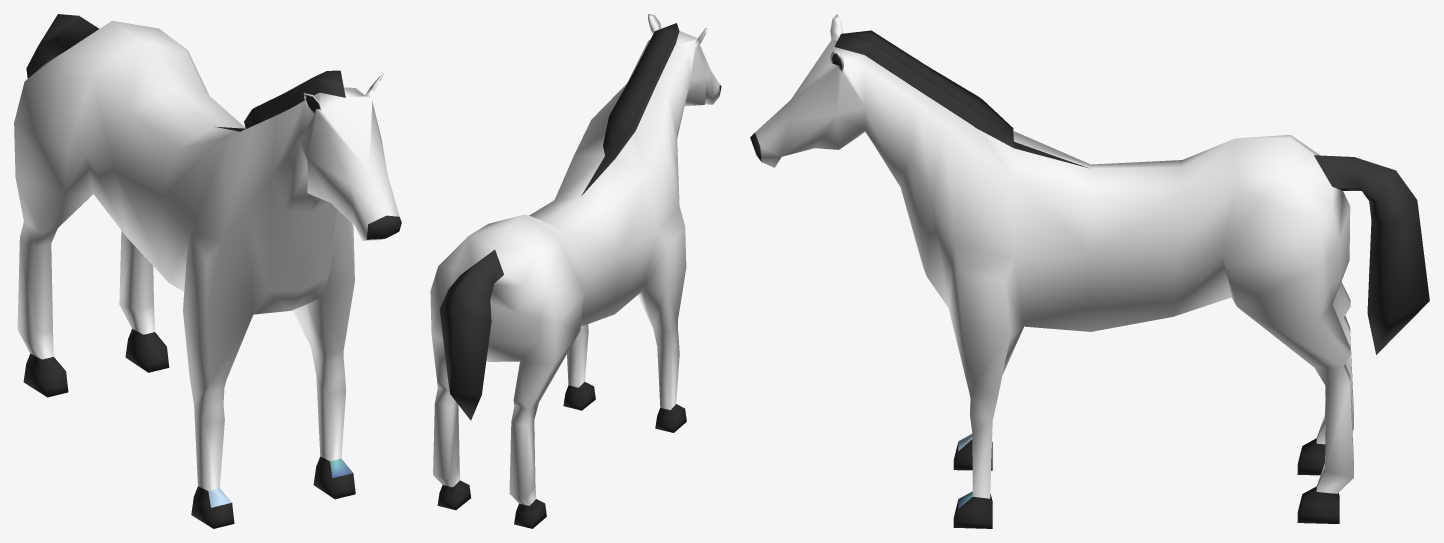
Rendered from Horse.fbx.
The picture shows the model from 3 angles, left to right: view 1: azimuth 30°, elevation 25°; view 2: azimuth 150°, elevation 25°; view 3: azimuth 270°, elevation 25°; orthographic projection. The views are drawn at different scales.
Visible parts, largest first — view 1: Horse; view 2: Horse; view 3: Horse.
Boxes of the visible parts, left/top/right/bottom form: Horse: left=14, top=14, right=401, bottom=528; Horse: left=430, top=14, right=721, bottom=528; Horse: left=750, top=14, right=1429, bottom=528.
Bounding box in the file's own units: 0.7214 × 1.94 × 2.59.
